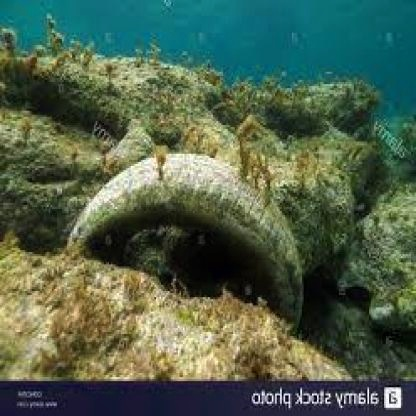tire: (60, 144, 309, 336)
